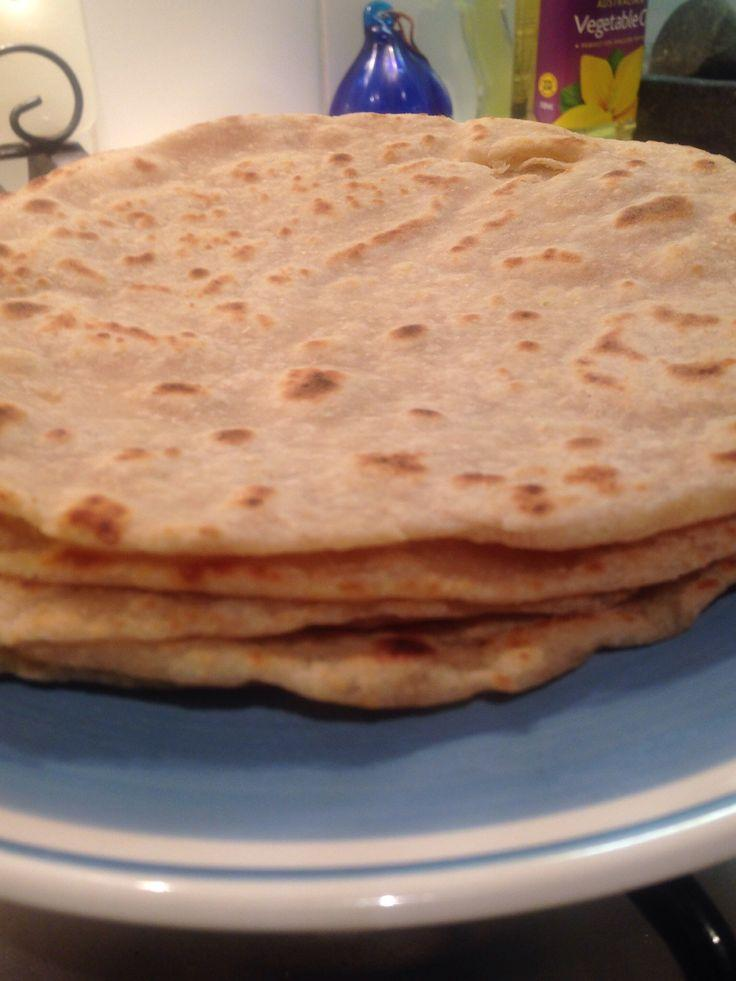roti phulka: (4, 112, 731, 706)
